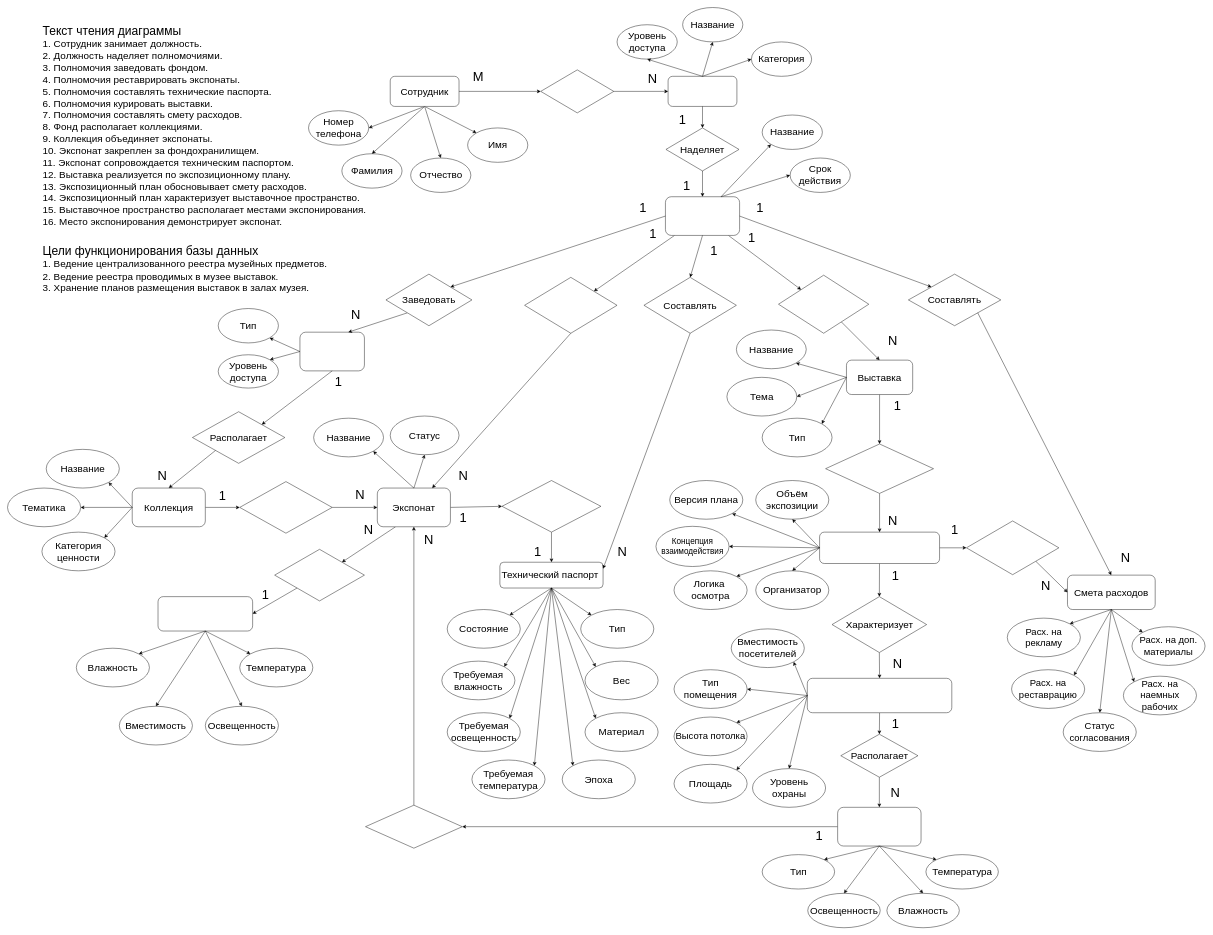
This 1213x935 diagram has some shape labels left out. The shapes that lost their labels are listed below. From the top down, each one's centre as x and y in pixels, then its label:
At (x=577, y=91): "Занимает".
At (x=702, y=91): "Должность".
At (x=702, y=215): "Полномочия".
At (x=570, y=305): "Реставрировать".
At (x=823, y=304): "Курировать".
At (x=331, y=351): "Фонд".
At (x=879, y=468): "Реализуется".
At (x=285, y=507): "Объединяет".
At (x=551, y=506): "Сопровождается".
At (x=879, y=548): "Экспозиционный план".
At (x=1012, y=548): "Обосновывает".
At (x=319, y=575): "Закреплён".
At (x=205, y=613): "Фондохранилище".
At (x=879, y=695): "Выставочное пространство".
At (x=413, y=826): "Демонстрирует".
At (x=879, y=826): "Место экспонирования".
